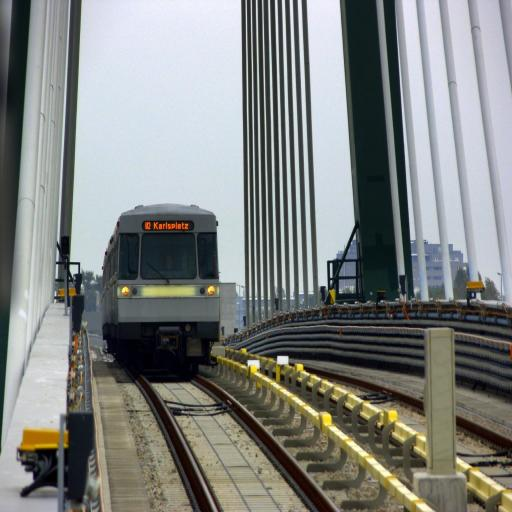Silberpfeil: (102, 203, 222, 339)
